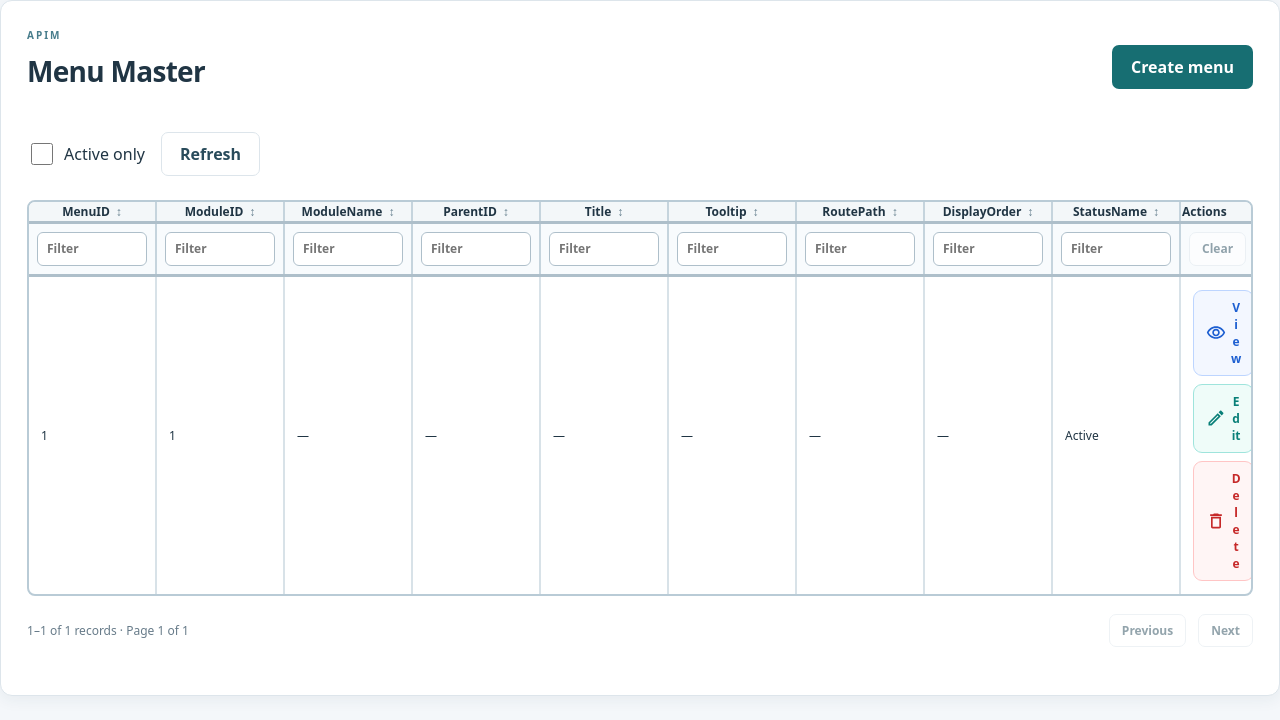
opens row details and dismisses the menu popup
Click the button with aria-label "View menu" at coordinates (1224, 332), box [1193, 290, 1254, 376]
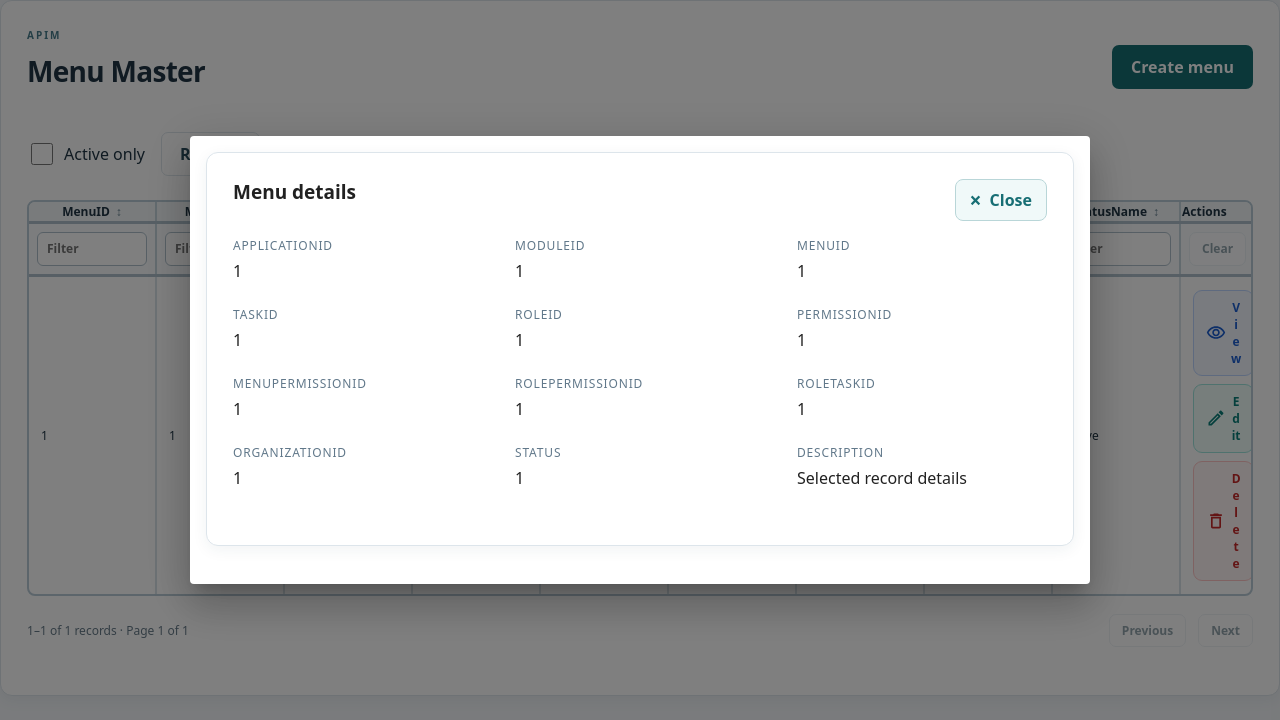
Result: the text "Selected record details" is shown at [797, 467, 967, 489]
Click the button "Close" at coordinates (1001, 200), box [955, 179, 1047, 221]
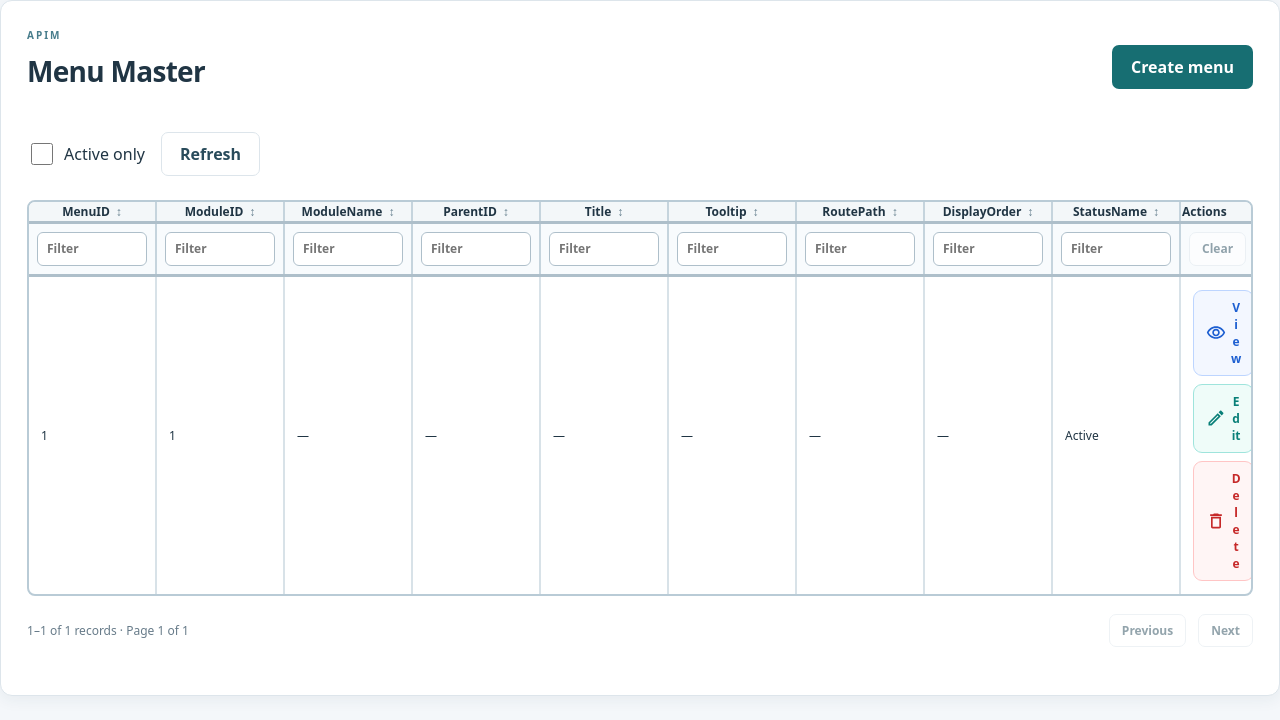
Result: the dialog is gone
Click the button with aria-label "View menu" at coordinates (1224, 332), box [1193, 290, 1254, 376]
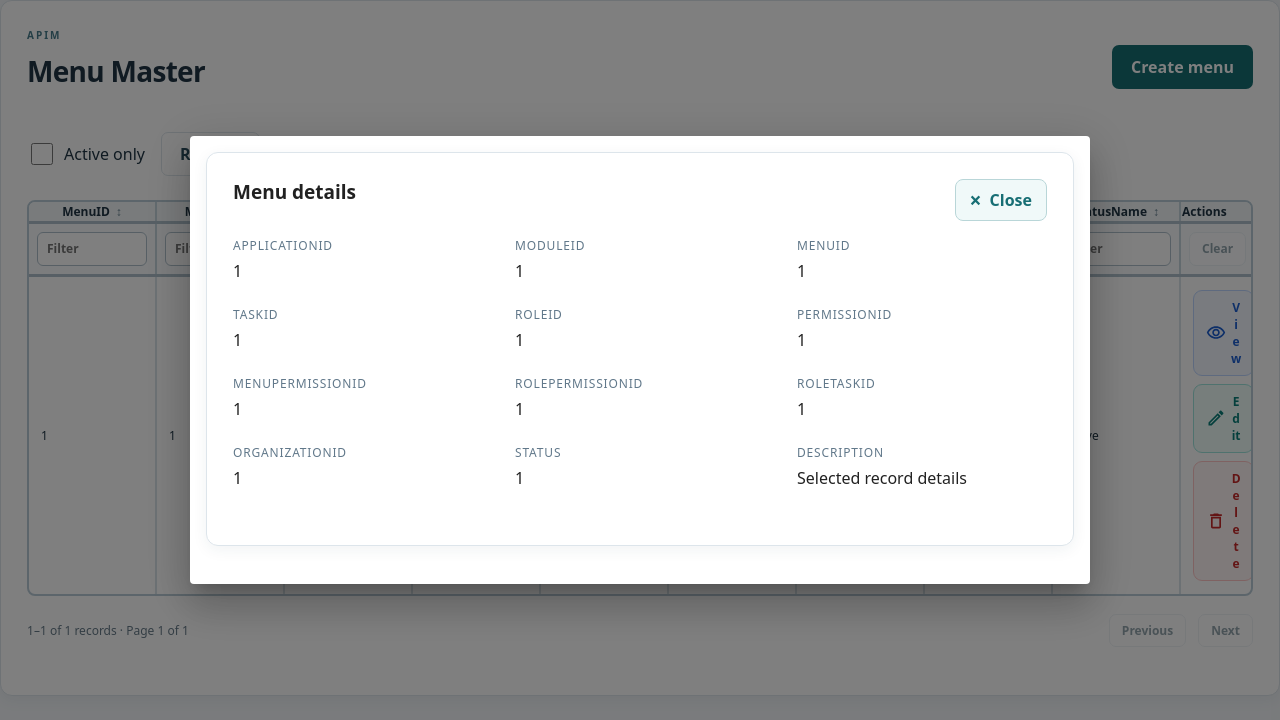
Press Escape in the dialog, box [190, 136, 1090, 584]
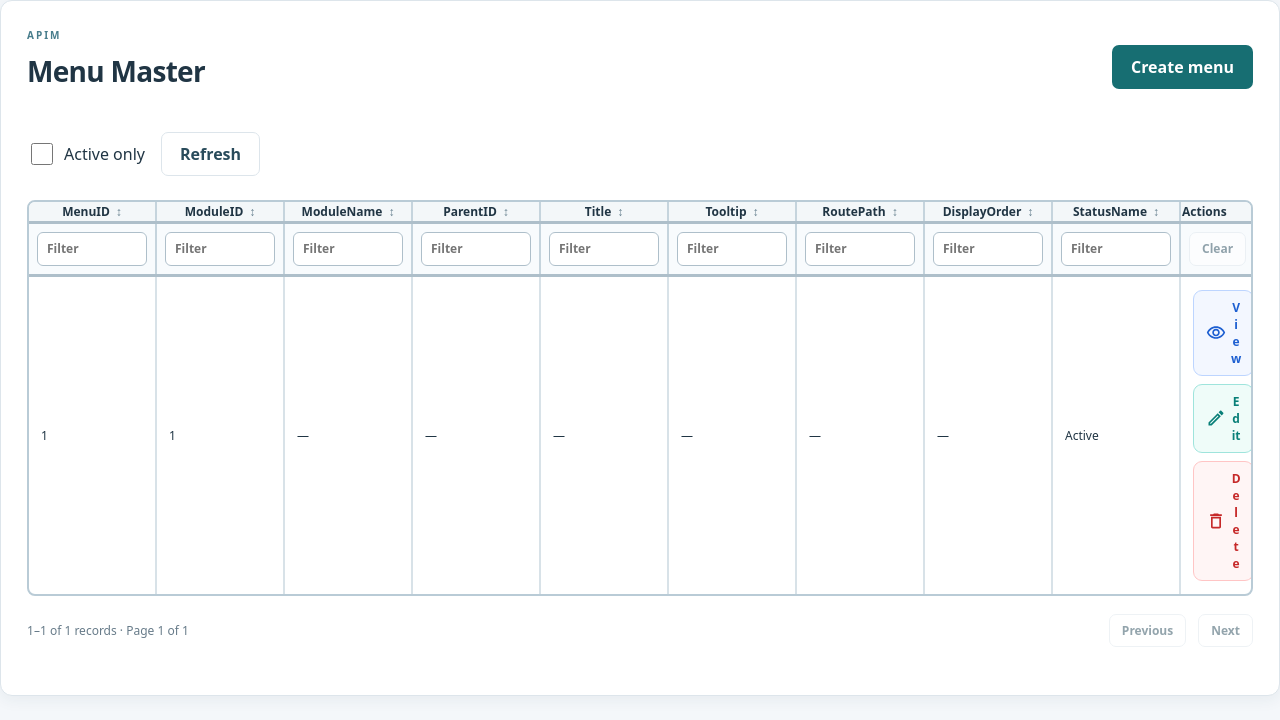
Result: the dialog is gone
